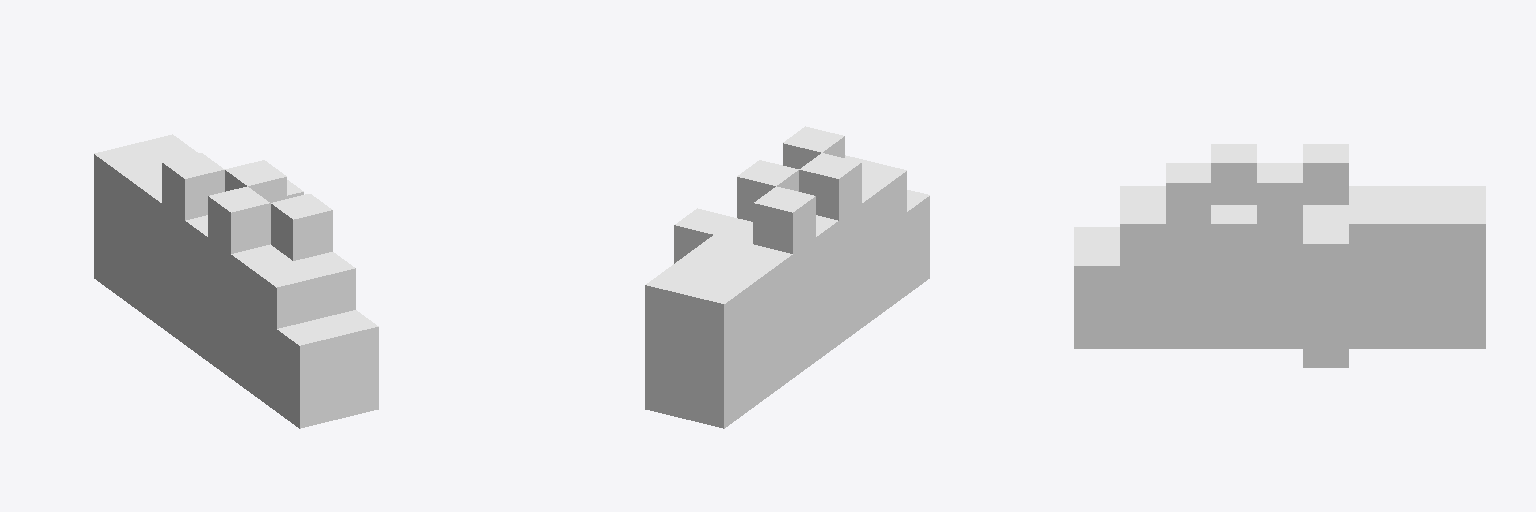
The model's file is Brunette-4.obj.
3 views of the same model, side by side, from view 1: azimuth 30°, elevation 25°; view 2: azimuth 150°, elevation 25°; view 3: azimuth 270°, elevation 25° (orthographic).
Parts seen in each view (by area): view 1: object 1; view 2: object 1; view 3: object 1.
Boxes of the visible parts, box(x1,y1,x2,y2) form: object 1: box(94, 134, 378, 428); object 1: box(645, 126, 929, 428); object 1: box(1074, 144, 1485, 367).
Size of the model in its own units: 0.3 by 0.4 by 0.9.